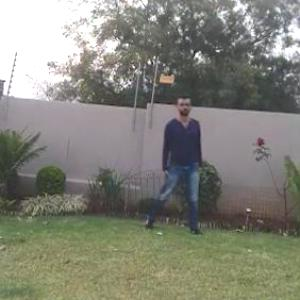follow: (148, 92, 197, 242)
